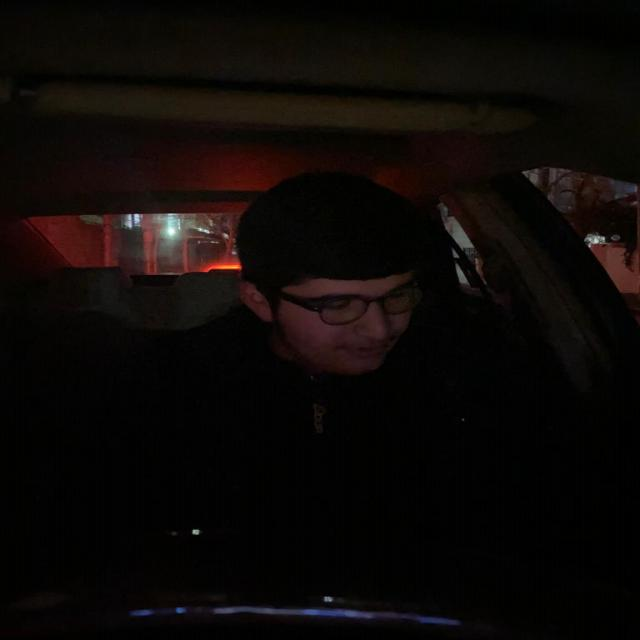drowsy: (232, 166, 439, 380)
